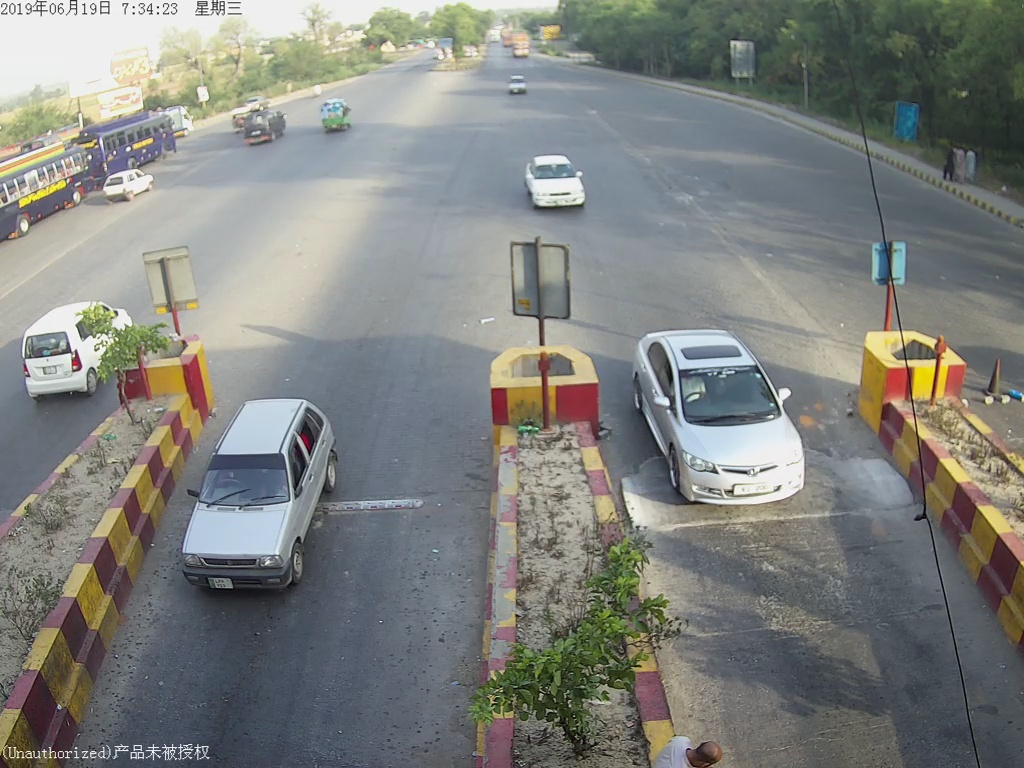Cat-1: (632, 324, 815, 503), (175, 398, 332, 593), (517, 149, 597, 218)
